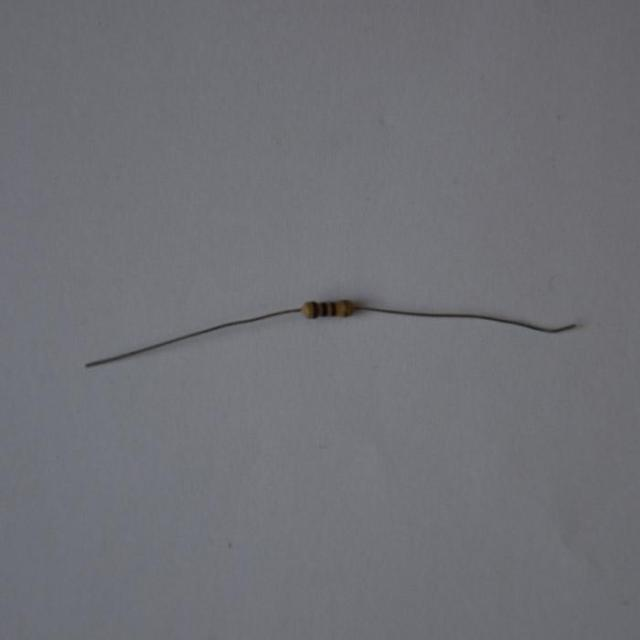Resistor: (303, 299, 360, 324)
